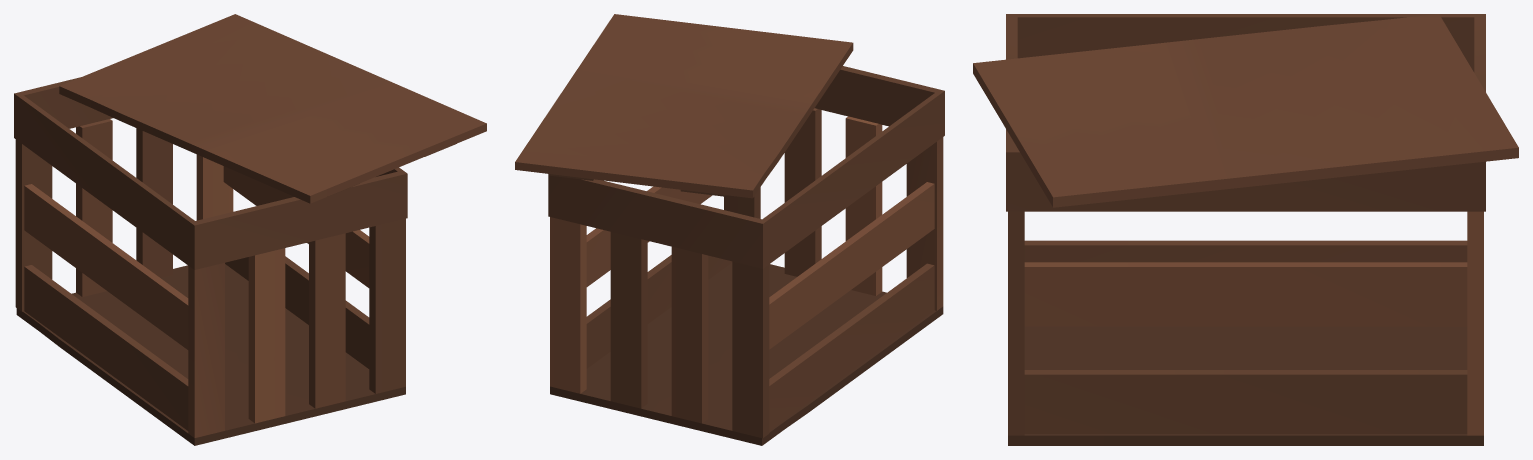
The model's file is Small Cherry Crate Open Lid.fbx.
3 renders of one model, left to right at view 1: azimuth 30°, elevation 25°; view 2: azimuth 150°, elevation 25°; view 3: azimuth 270°, elevation 25°, orthographic. The views are drawn at different scales.
Parts seen in each view (by area): view 1: Small Cherry Crate Open Lid; view 2: Small Cherry Crate Open Lid; view 3: Small Cherry Crate Open Lid.
Part boxes in pixels (left/top/right/bottom): Small Cherry Crate Open Lid: left=14, top=14, right=486, bottom=445; Small Cherry Crate Open Lid: left=515, top=14, right=944, bottom=445; Small Cherry Crate Open Lid: left=973, top=14, right=1518, bottom=445.
Size of the model in its own units: 146 by 232 by 202.
Materials: 1 (1 with a texture image).
